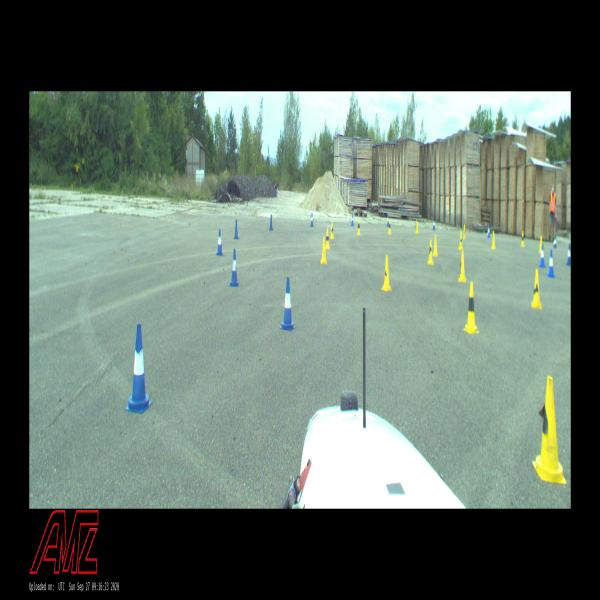blue_cone: (125, 324, 152, 413), (280, 278, 295, 331), (229, 249, 240, 286), (547, 250, 555, 278), (217, 230, 223, 256), (540, 244, 546, 268), (234, 220, 239, 239), (566, 244, 570, 265), (270, 215, 274, 230), (553, 235, 557, 248), (311, 213, 314, 227), (351, 213, 354, 226), (386, 215, 389, 226), (488, 225, 490, 238), (433, 219, 435, 230)
yellow_cone: (532, 377, 566, 483), (464, 282, 480, 332), (381, 255, 392, 291), (532, 270, 542, 308), (458, 251, 466, 281), (321, 237, 327, 263), (428, 240, 433, 264), (433, 234, 438, 256), (325, 228, 330, 249), (491, 231, 496, 249), (458, 232, 462, 249), (330, 222, 334, 238), (520, 231, 524, 246), (357, 219, 360, 235), (539, 236, 542, 252), (463, 224, 466, 239), (388, 221, 391, 234), (416, 221, 418, 234)
